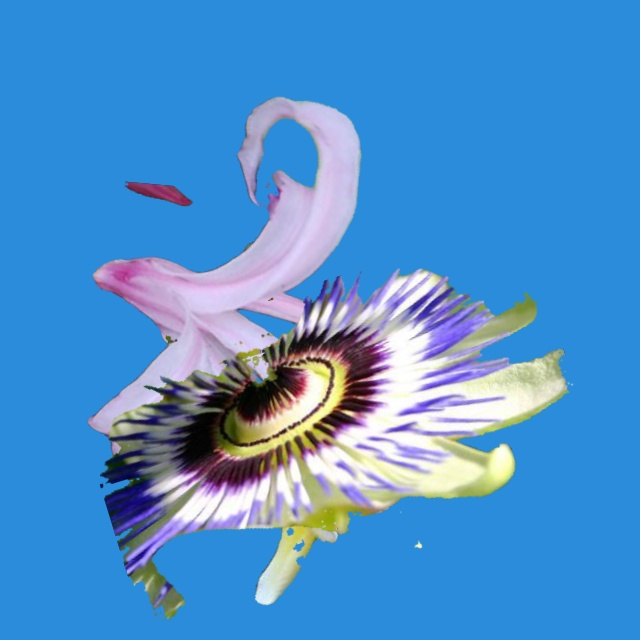cape flower: (88, 97, 493, 523), (125, 182, 191, 205)
daisy: (242, 239, 283, 281)
frangipani: (196, 394, 345, 604)
passion flower: (100, 269, 572, 618)
